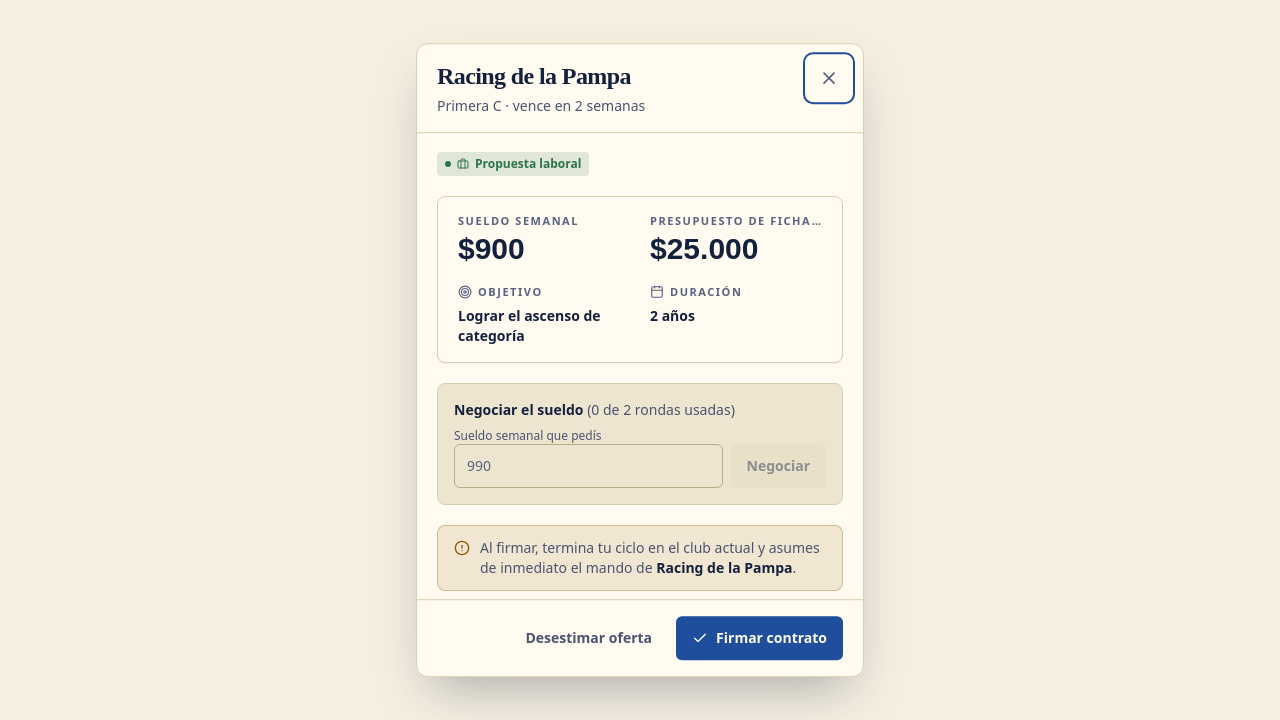
Test: modales migrados (escritorio) › JobOfferBottomSheet permite negociar el sueldo y muestra la respuesta del club
The width and height of the screenshot is (1280, 720).
Type "1100" into the number field labelled "Sueldo semanal que pedís" at {"x": 588, "y": 466}, box [454, 444, 722, 488]
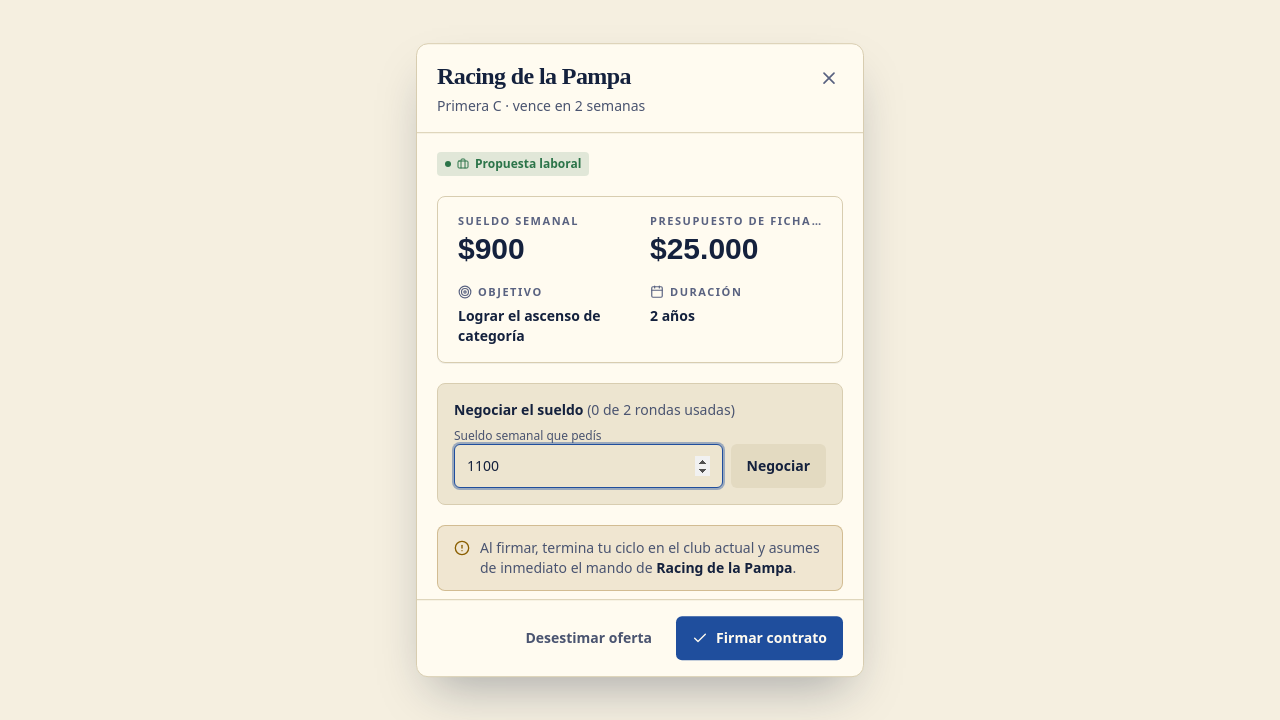
Click the button "Negociar" at {"x": 778, "y": 466}, box [730, 444, 826, 488]
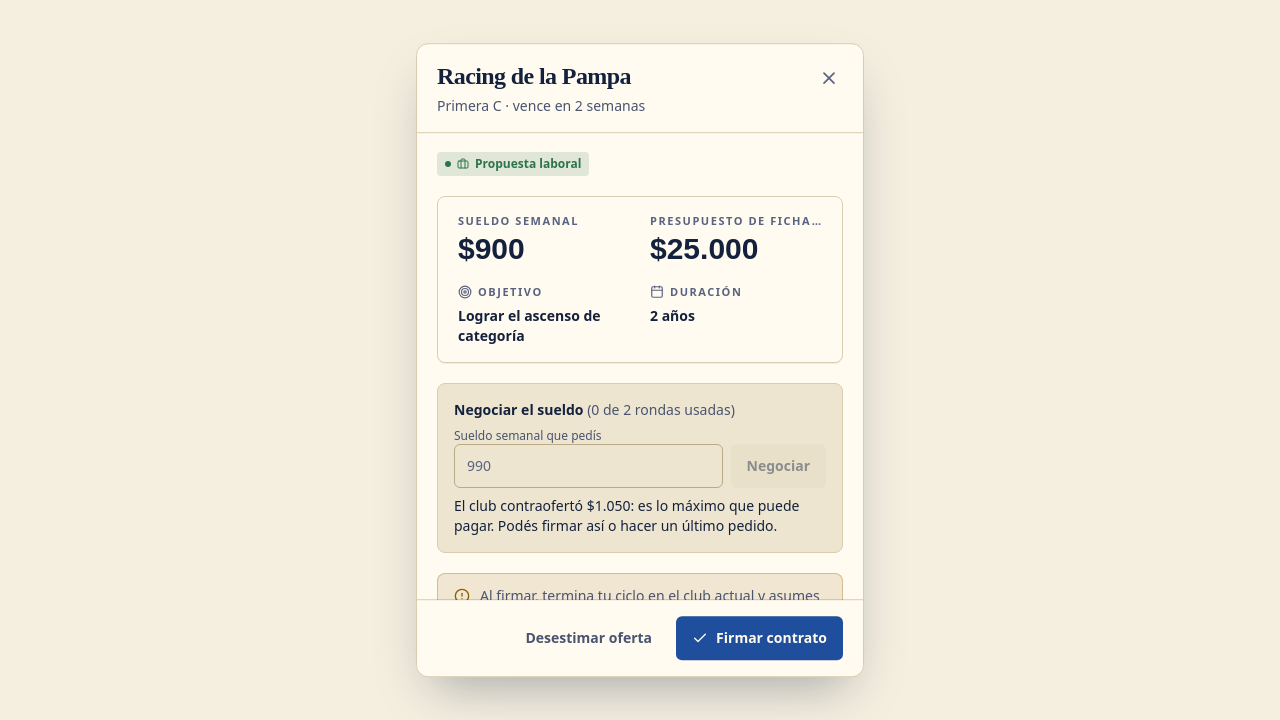
Expected: the text "contraofertó $1.050" is shown, [454, 496, 799, 535]
